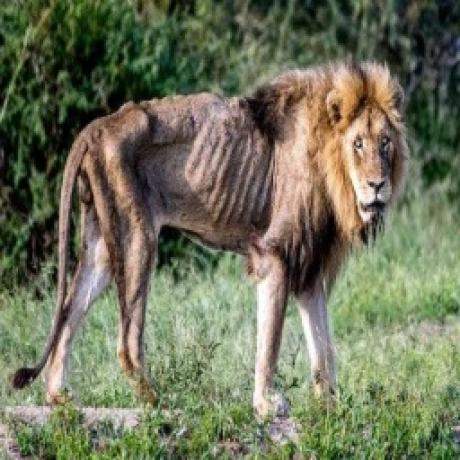Lion: (12, 62, 410, 428)
